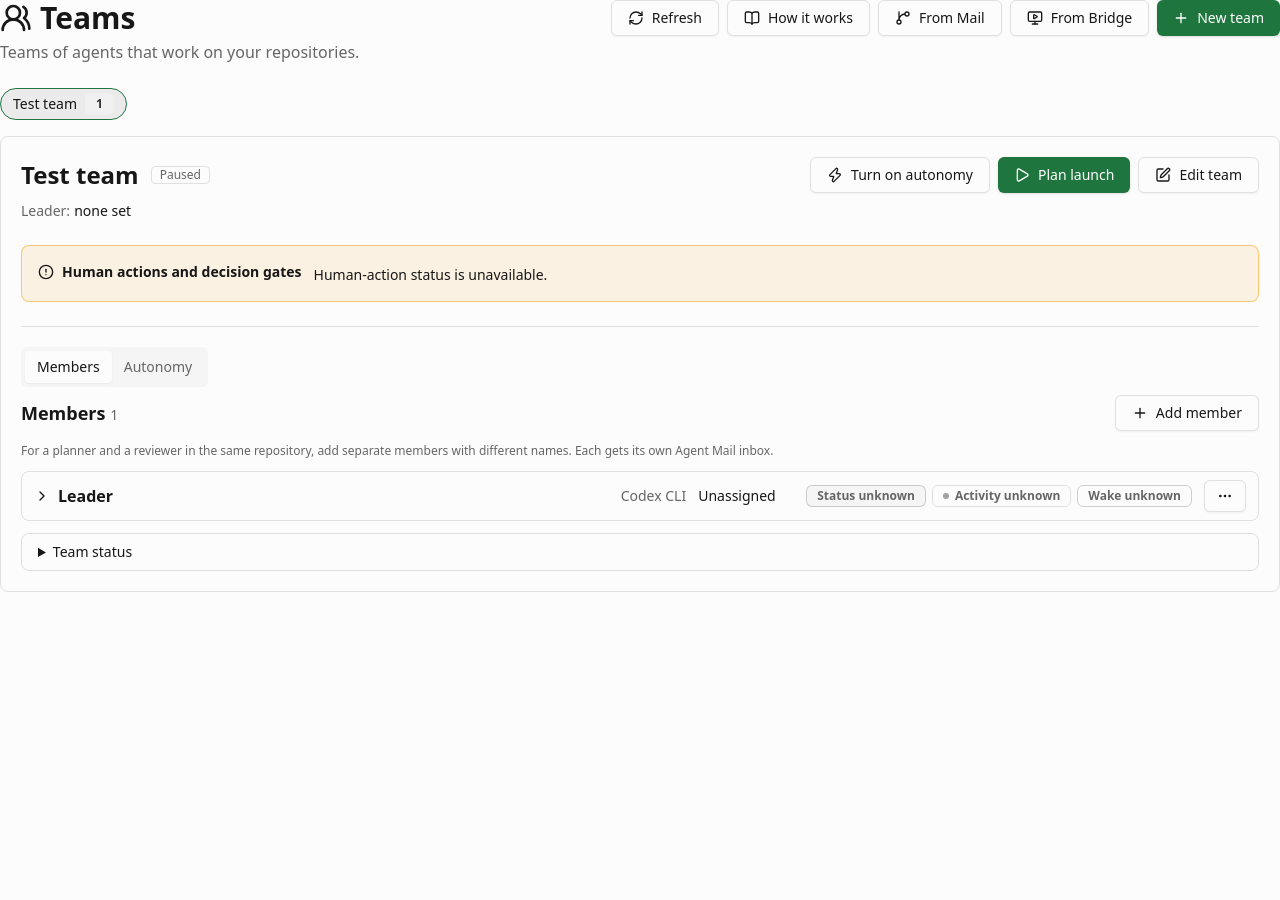
Test case: AgentTeamsPage launch authorization › shows the launch result message and the workspace trust change
Click the button "Plan launch" at (1064, 175), box [998,157,1130,193]
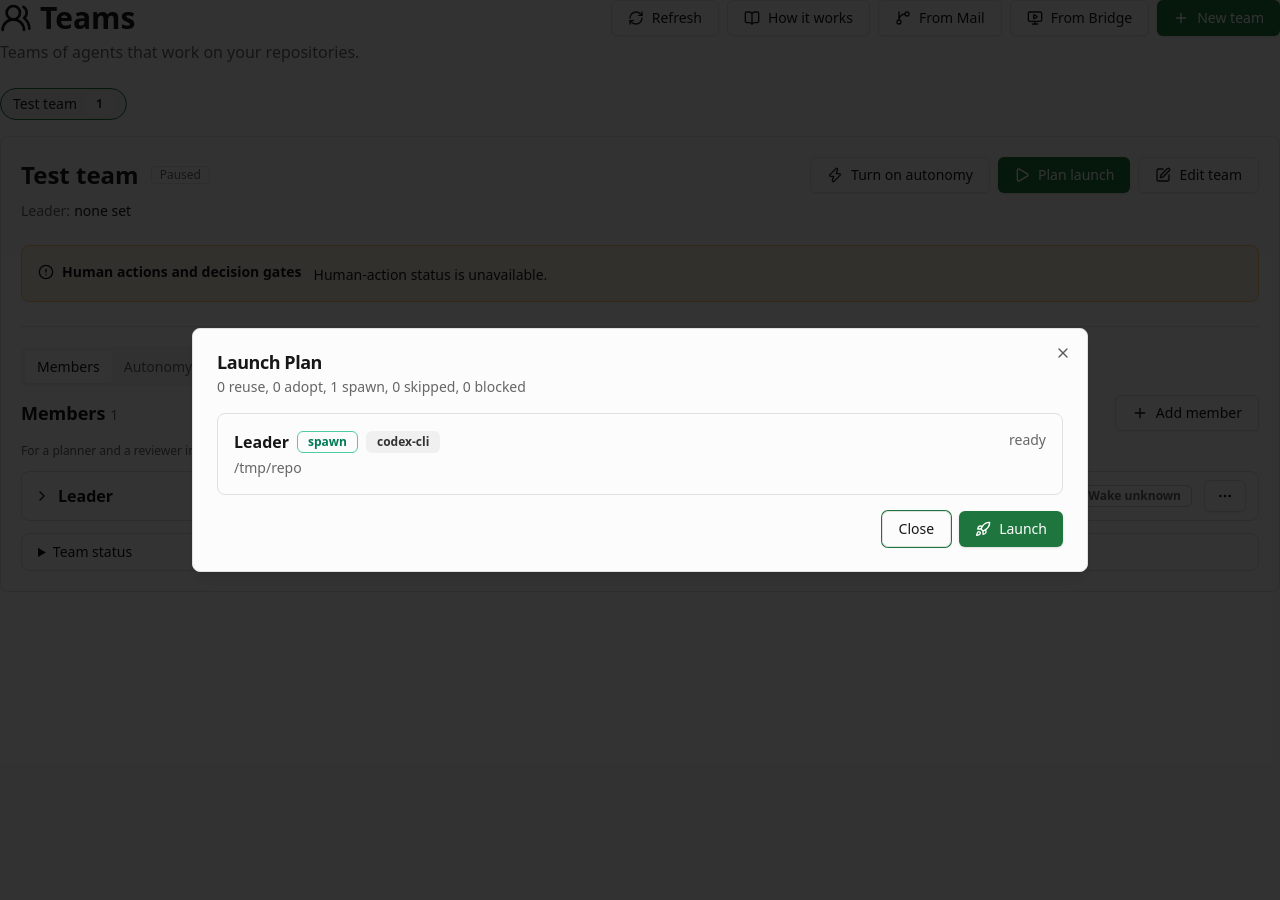
Click the button "Launch" at (1011, 529), box [959,511,1063,547]
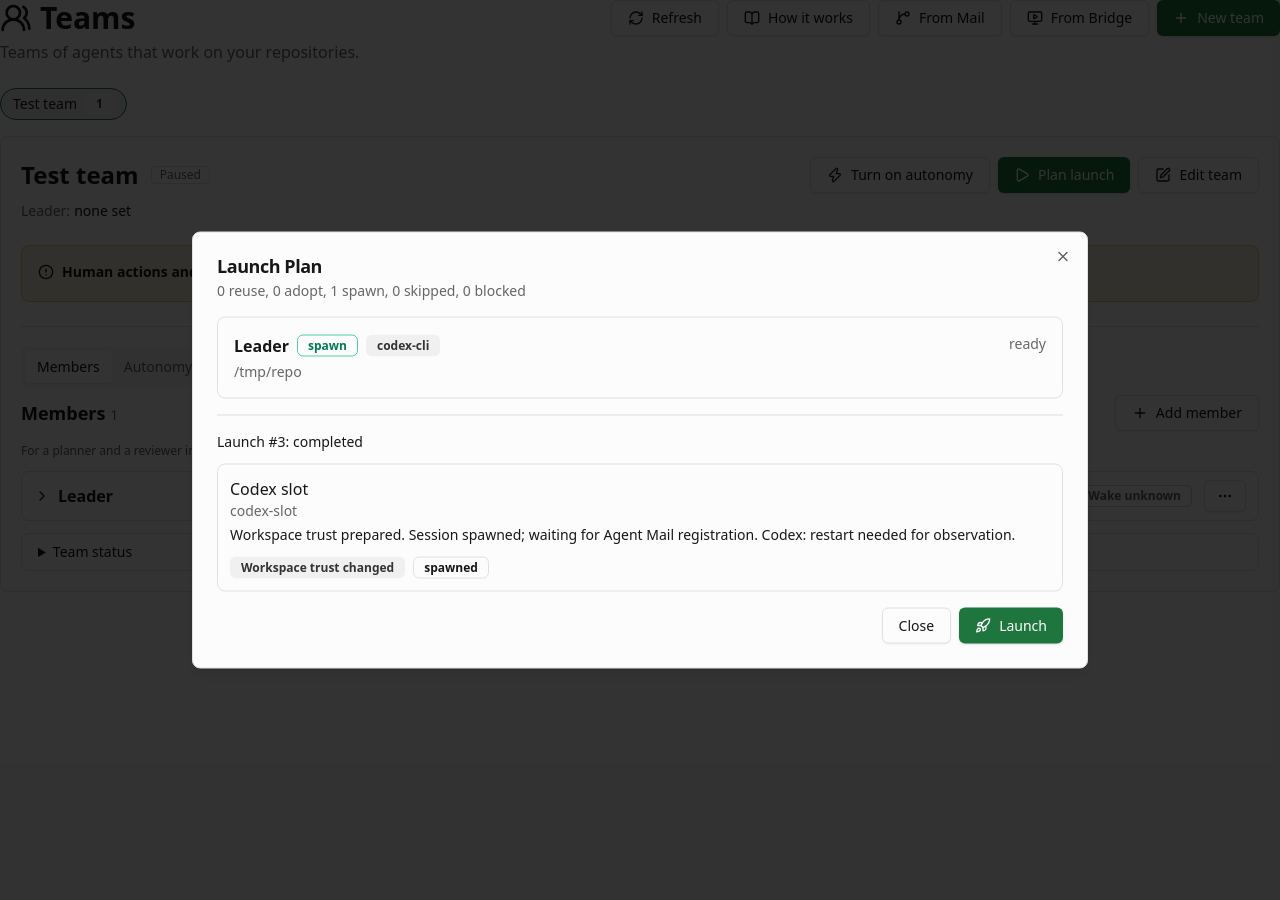
Check: the text "Codex: restart needed for observation" is shown, box [230,524,1015,544]
Check: the text "Workspace trust changed" is shown, box [230,556,405,578]
